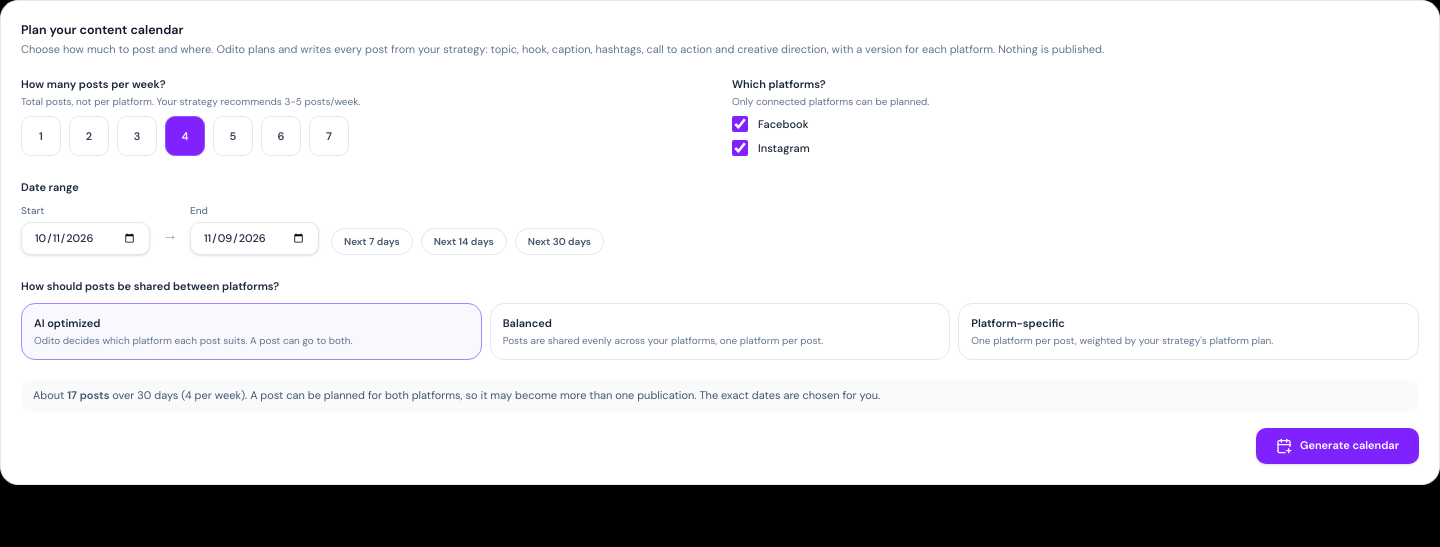
Content plan — the planning form › a refused start shows the server message in the form and keeps the choices
This screenshot has width=1440, height=547.
Click the radio button named "6 posts per week": (281, 136) x1=261 y1=116 x2=301 y2=156
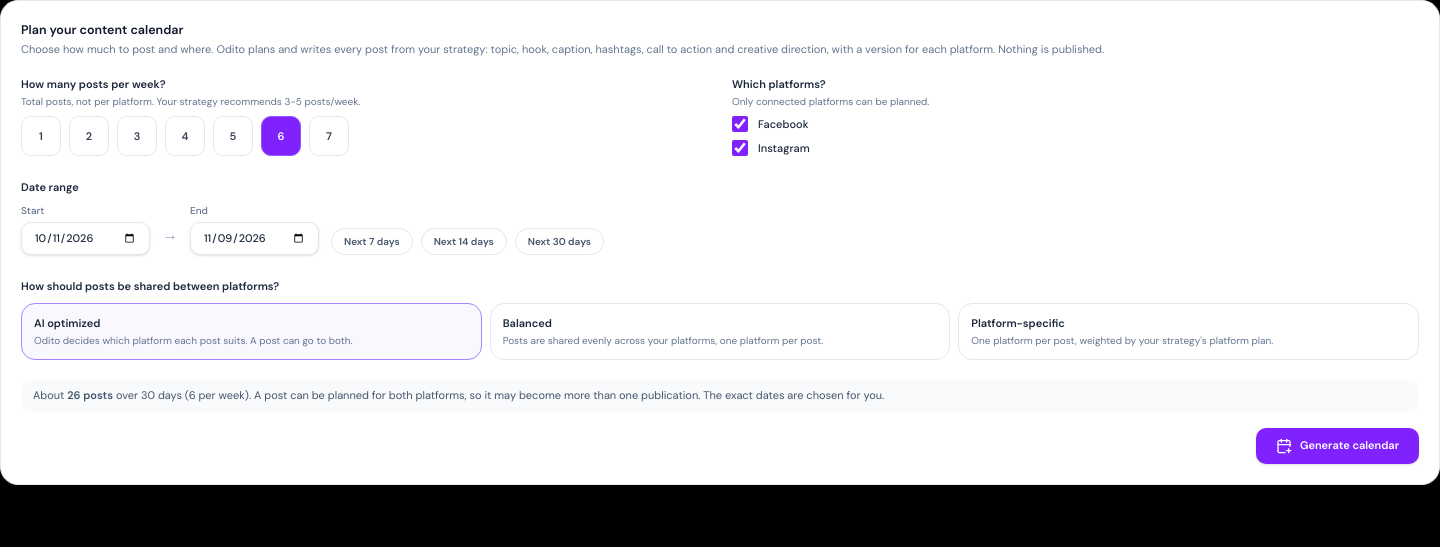
Click the button with test id "generate-calendar-button": (1338, 446) x1=1256 y1=428 x2=1419 y2=464
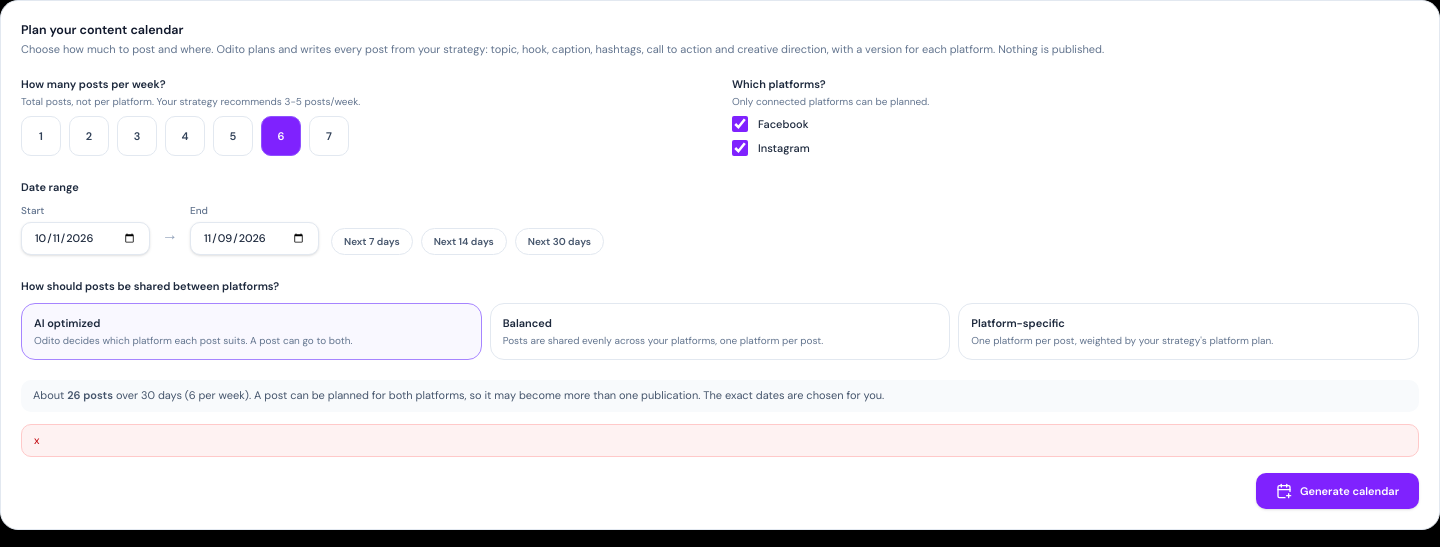
Expected: the button with test id "generate-calendar-button" is enabled, x1=1256 y1=473 x2=1419 y2=509
Expected: the radio button named "6 posts per week" is checked, x1=261 y1=116 x2=301 y2=156
Expected: the message "x" is shown, x1=21 y1=424 x2=1419 y2=457
